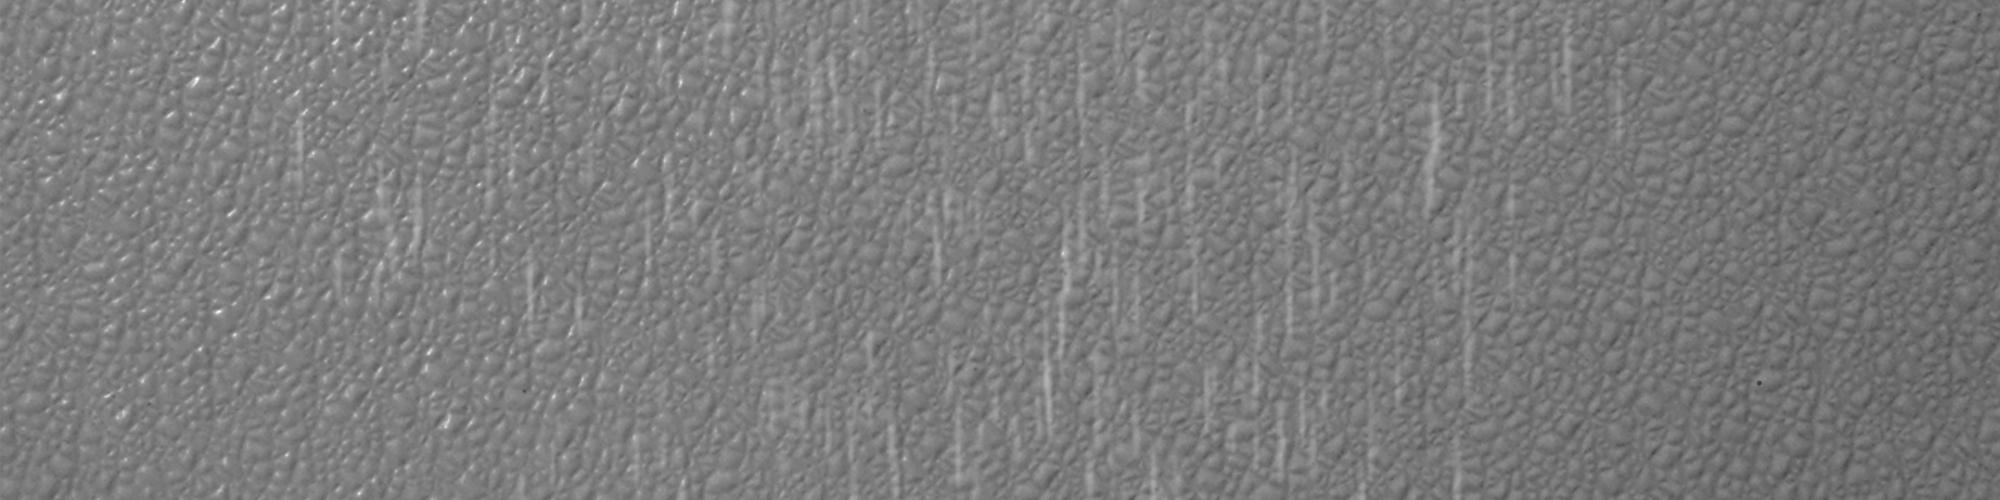Streaks: (1284, 386, 1374, 500), (1273, 64, 1325, 255), (1241, 268, 1309, 395), (1454, 200, 1497, 395), (1473, 3, 1532, 142), (1305, 230, 1383, 325), (1013, 302, 1054, 466), (1235, 381, 1293, 495), (1094, 239, 1154, 335), (1051, 171, 1077, 395), (1077, 355, 1115, 499), (1497, 180, 1533, 319), (1418, 78, 1449, 231), (1436, 392, 1481, 496), (1542, 20, 1583, 128), (1106, 9, 1148, 110), (918, 29, 966, 119), (367, 147, 401, 272), (858, 78, 909, 156), (1129, 386, 1163, 500), (1064, 38, 1099, 147), (407, 159, 439, 281), (1182, 339, 1216, 452), (710, 55, 739, 186), (635, 156, 661, 298), (1599, 59, 1639, 147), (823, 43, 858, 139), (945, 379, 973, 499), (485, 96, 509, 230), (284, 101, 312, 203), (927, 194, 954, 293), (1184, 250, 1210, 342), (401, 3, 441, 62), (812, 386, 844, 462), (315, 3, 364, 51), (1091, 156, 1117, 239), (1448, 65, 1473, 151), (1017, 108, 1045, 182), (1381, 341, 1409, 415), (879, 422, 906, 499), (841, 406, 865, 487), (323, 240, 352, 306), (628, 416, 651, 500), (1251, 31, 1268, 145), (523, 247, 543, 338), (1177, 154, 1204, 221), (980, 79, 1006, 143), (1310, 4, 1341, 59), (1171, 94, 1196, 154), (865, 319, 885, 390), (565, 277, 587, 337), (1136, 166, 1153, 219)
